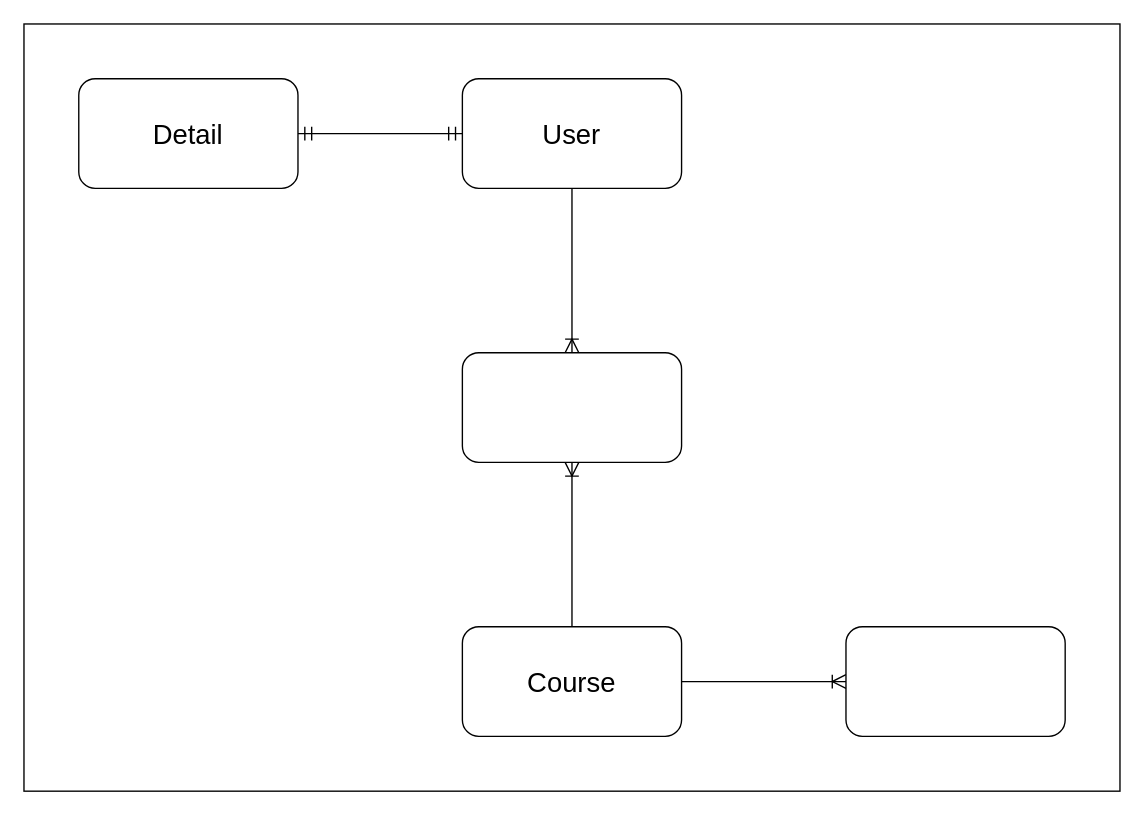
Some shapes in this 1144 by 815 pixel diagram are drawn without their labels. The shapes that lost their labels are listed below. From the top down, each one's centre as x and y in pixels, then its label:
At point 571,406: "Registration".
At point 955,680: "lesson".
